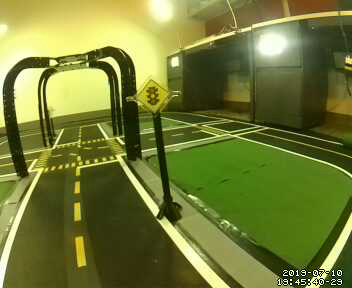Traffic light sign: (135, 77, 171, 113)
